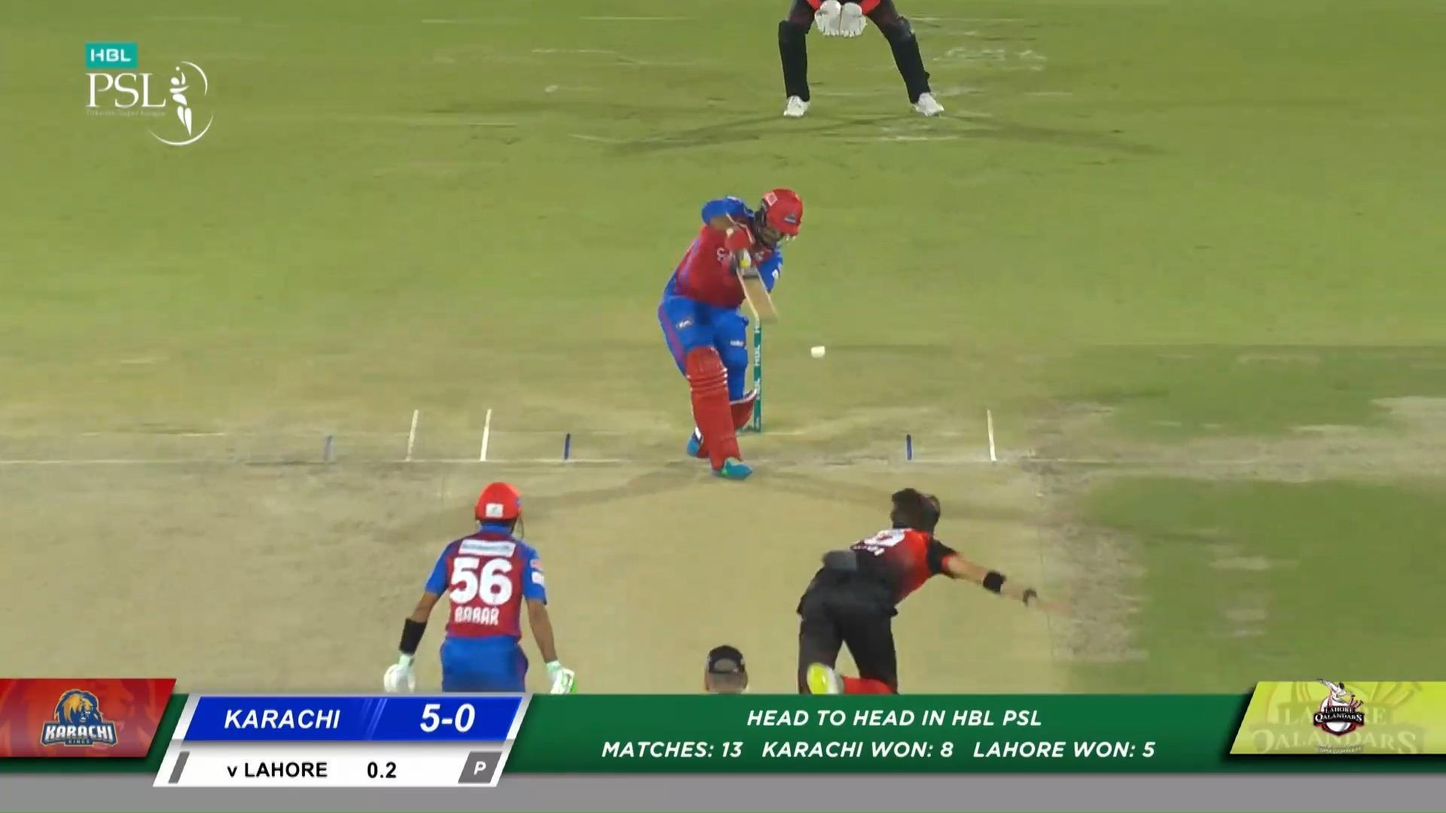BM 1: (658, 189, 804, 481)
BO: (795, 487, 1074, 692)
